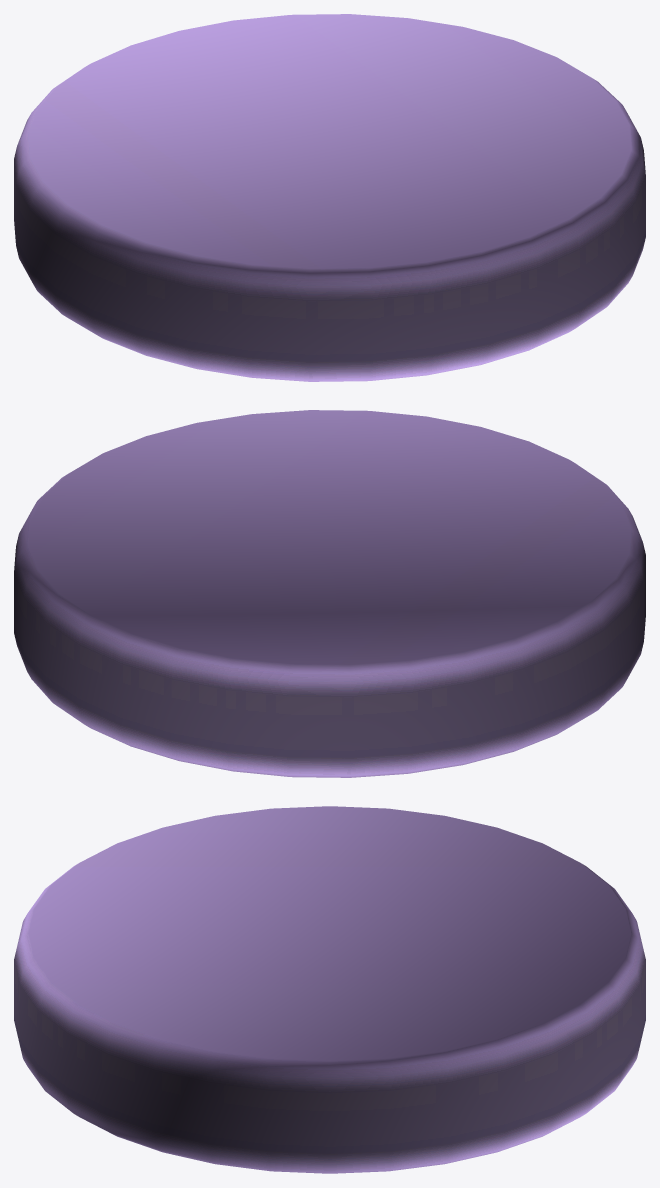
The model's file is invisiblewoman_cylinder.glb.
3 renders of one model, top to bottom at view 1: azimuth 30°, elevation 25°; view 2: azimuth 150°, elevation 25°; view 3: azimuth 270°, elevation 25°, orthographic.
Visible parts, largest first — view 1: invisiblewoman_cylinder_0; view 2: invisiblewoman_cylinder_0; view 3: invisiblewoman_cylinder_0.
Boxes of the visible parts, x1,y1,x2,y2 form: invisiblewoman_cylinder_0: [14, 14, 645, 381]; invisiblewoman_cylinder_0: [14, 410, 645, 777]; invisiblewoman_cylinder_0: [14, 806, 645, 1173].
Bounding box in the file's own units: 120 × 23.7 × 120.
Materials: 1 (1 with a texture image).
